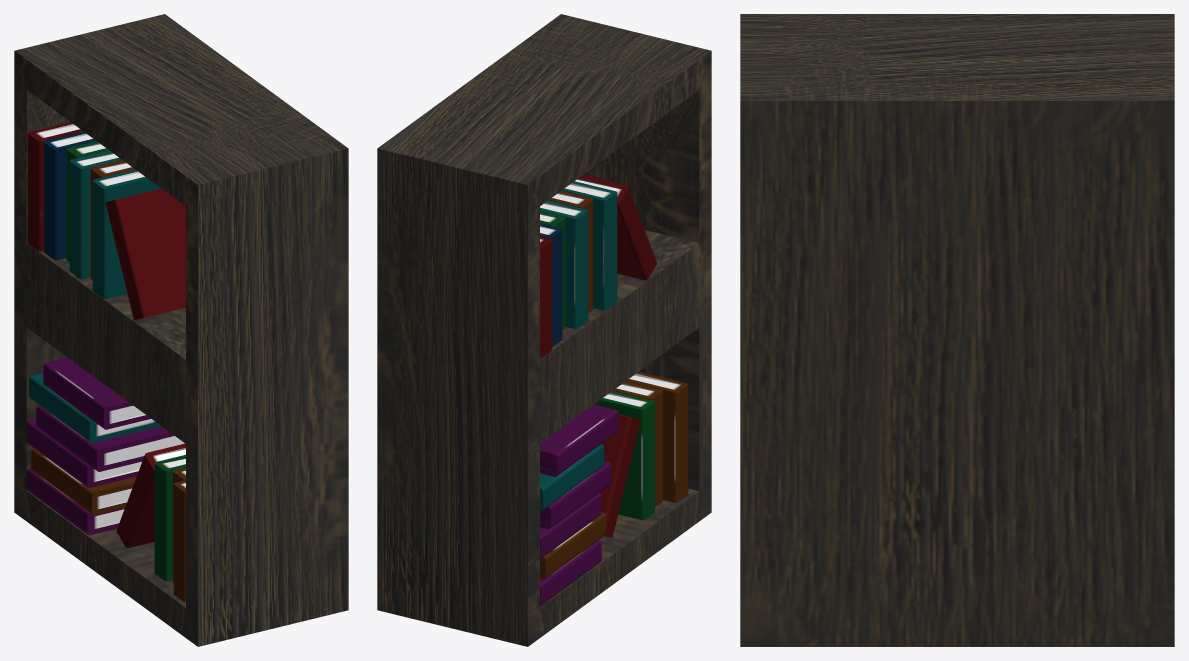
File: Mueble_libros.fbx
3 views of the same model, side by side, from view 1: azimuth 30°, elevation 25°; view 2: azimuth 150°, elevation 25°; view 3: azimuth 270°, elevation 25° (orthographic). The views are drawn at different scales.
Visible parts, largest first — view 1: Esatanteria, pCube8, pCube5, pCube11, pCube9, pCube3, pCube6, pCube18, pCube13, pCube1, pCube16, pCube10 (+5 smaller); view 2: Esatanteria, pCube16, pCube17, pCube5, pCube6, pCube9, pCube8, pCube18, pCube11, pCube10, pCube13, pCube1 (+6 smaller); view 3: Esatanteria.
Part boxes in pixels (box(x1,y1,x2,y2)): Esatanteria: box(14, 14, 348, 646); pCube8: box(105, 188, 185, 320); pCube5: box(92, 169, 160, 298); pCube11: box(36, 405, 184, 471); pCube9: box(43, 357, 150, 429); pCube3: box(44, 131, 95, 260); pCube6: box(69, 150, 121, 279); pCube18: box(116, 443, 185, 547); pCube13: box(31, 448, 136, 515); pCube1: box(27, 122, 83, 251); pCube16: box(154, 454, 185, 581); pCube10: box(29, 373, 160, 442); Esatanteria: box(377, 14, 711, 646); pCube16: box(594, 391, 654, 520); pCube17: box(626, 372, 688, 502); pCube5: box(562, 181, 617, 310); pCube6: box(540, 200, 588, 328); pCube9: box(540, 404, 618, 476); pCube8: box(575, 175, 657, 280); pCube18: box(599, 414, 640, 537); pCube11: box(540, 461, 611, 529); pCube10: box(540, 444, 603, 510); pCube13: box(540, 512, 606, 579); pCube1: box(540, 236, 552, 358); Esatanteria: box(740, 14, 1174, 646).
Size of the model in its own units: 6.98 by 20.43 by 14.73.
